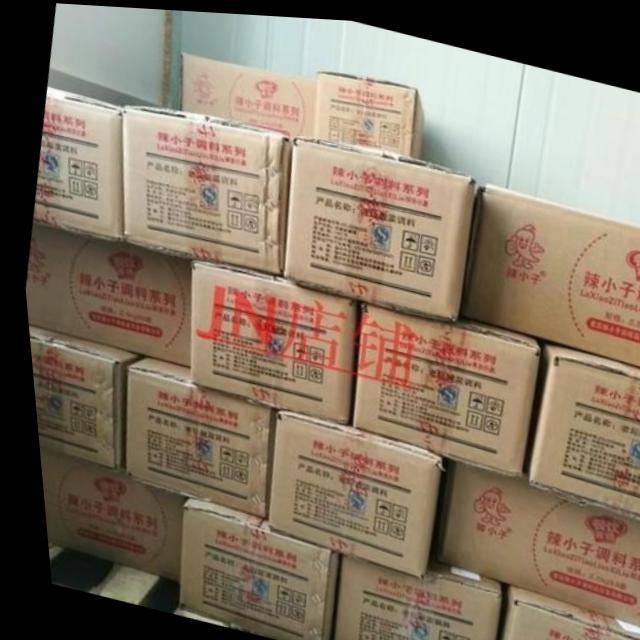box: (278, 133, 474, 317), (428, 454, 640, 621), (458, 178, 640, 361), (345, 298, 534, 472), (258, 408, 435, 574), (119, 104, 289, 273), (184, 258, 351, 422), (117, 356, 269, 516), (20, 225, 187, 365), (170, 496, 330, 640), (521, 338, 640, 516), (32, 451, 182, 580), (23, 325, 136, 472), (322, 552, 492, 640), (29, 87, 119, 240), (179, 50, 314, 135), (311, 67, 424, 156), (489, 579, 633, 640)
